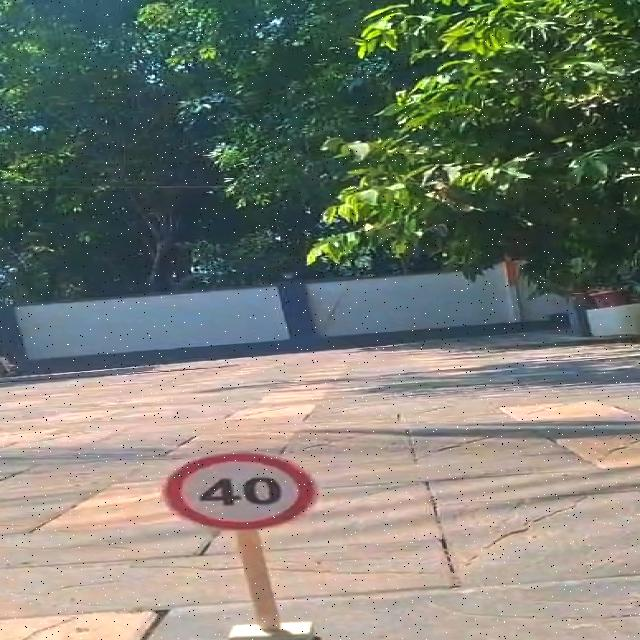Speed40: (160, 448, 322, 534)
